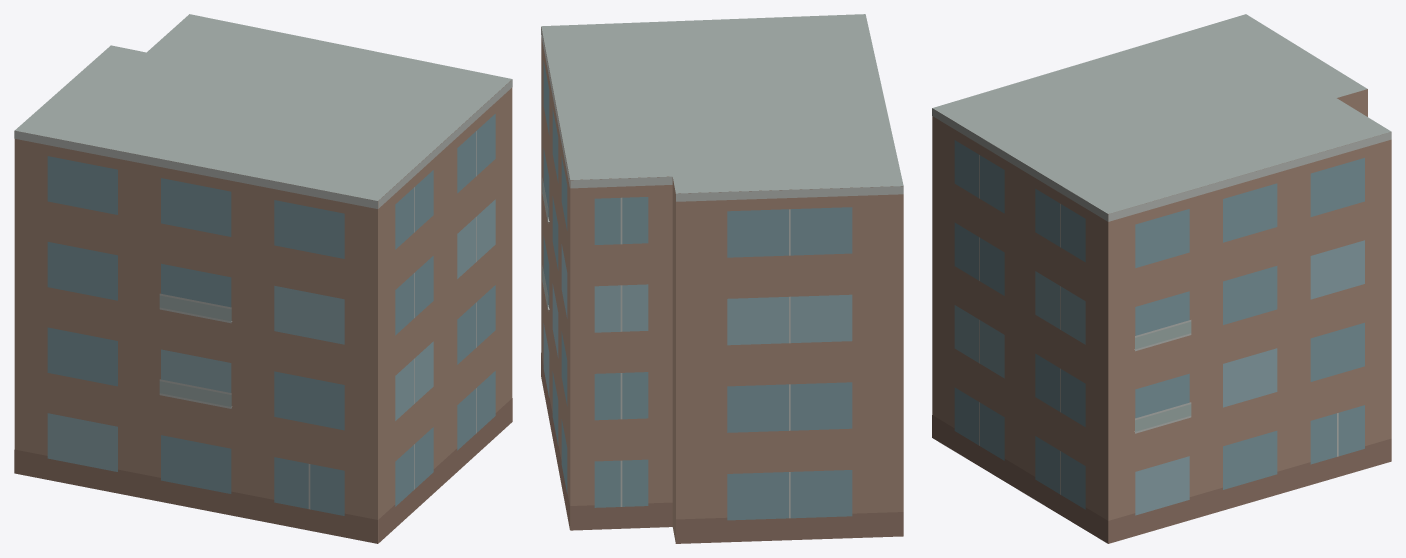
The model's file is survey-upis-32965842.glb.
3 views of the same model, side by side, from view 1: azimuth 30°, elevation 25°; view 2: azimuth 150°, elevation 25°; view 3: azimuth 270°, elevation 25° (orthographic). The views are drawn at different scales.
Parts seen in each view (by area): view 1: survey-upis-32965842.tmp; view 2: survey-upis-32965842.tmp; view 3: survey-upis-32965842.tmp.
Boxes of the visible parts, x1=… form: survey-upis-32965842.tmp: x1=14, y1=14, x2=512, y2=543; survey-upis-32965842.tmp: x1=541, y1=14, x2=903, y2=543; survey-upis-32965842.tmp: x1=932, y1=14, x2=1391, y2=543.
Size of the model in its own units: 13.41 by 10.3 by 13.01.
